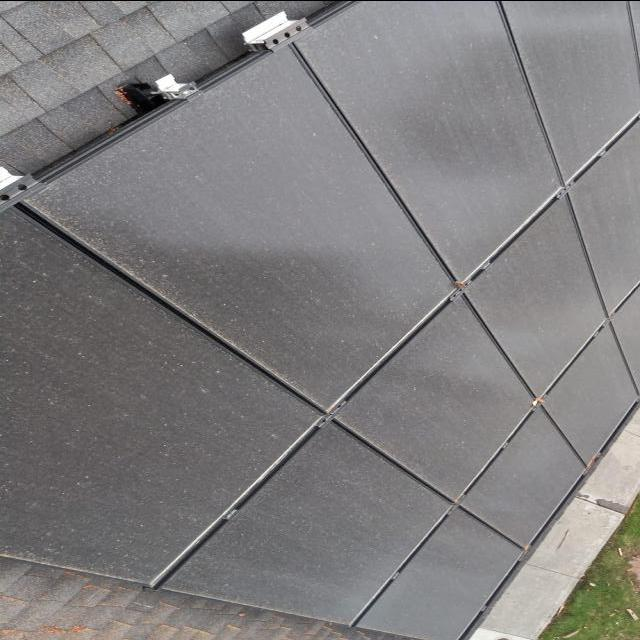soiled: (3, 0, 636, 629)
